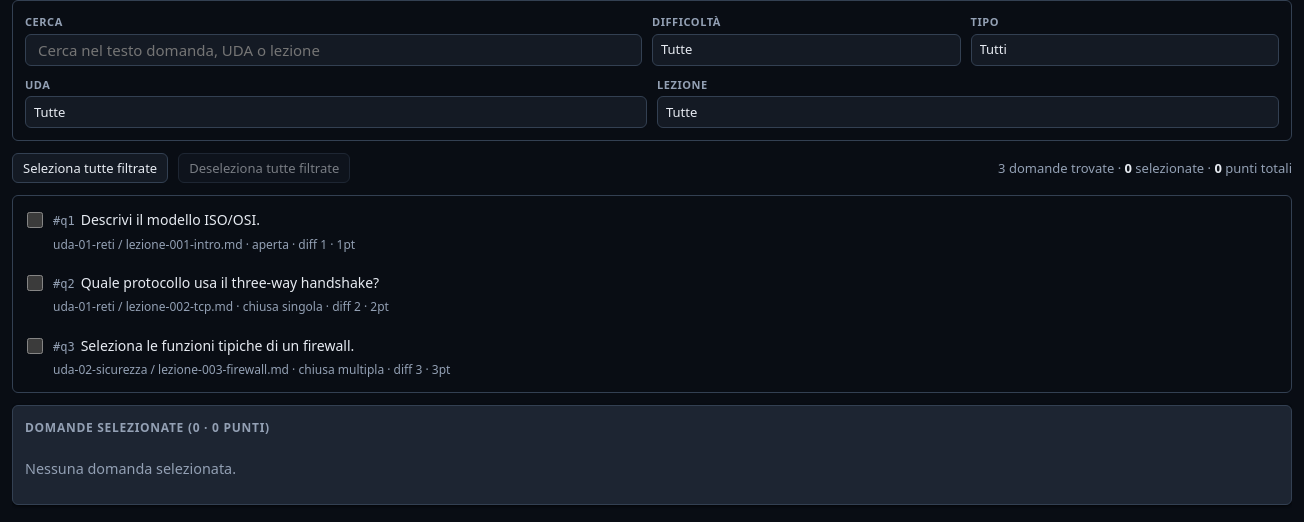
QuestionPicker — filters › filters by tipo
The width and height of the screenshot is (1304, 522).
Select "chiusa multipla" in the dropdown named "Filtra per tipo" at (1125, 50), box [970,34,1279,66]
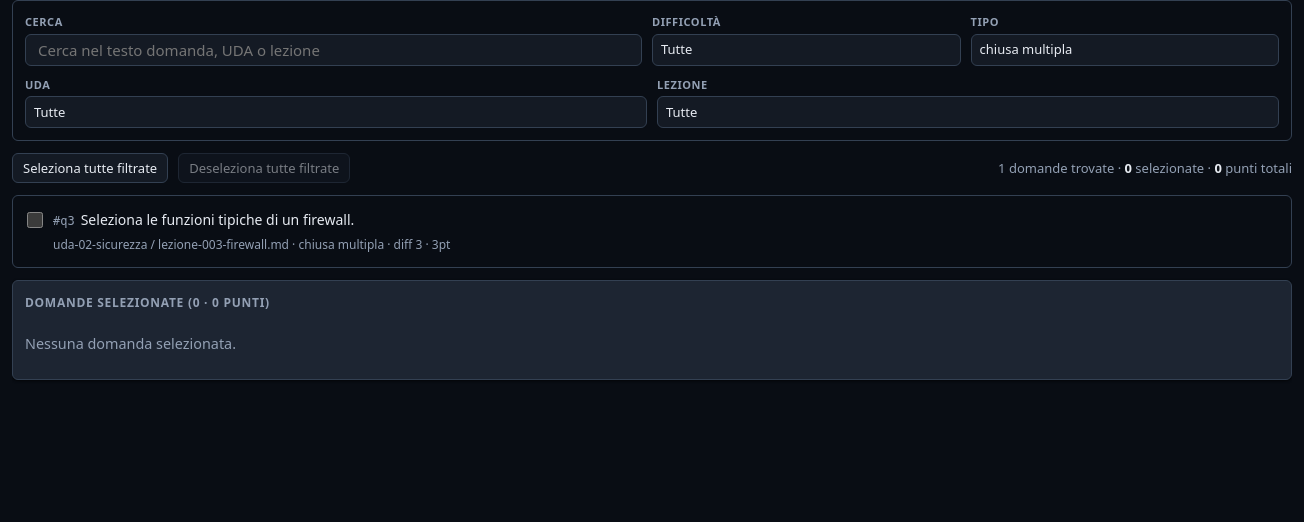
Check: the text "lezione-003-firewall.md" is shown, box [158,236,289,253]
Check: the number of list items is 1, box [27,210,450,253]
